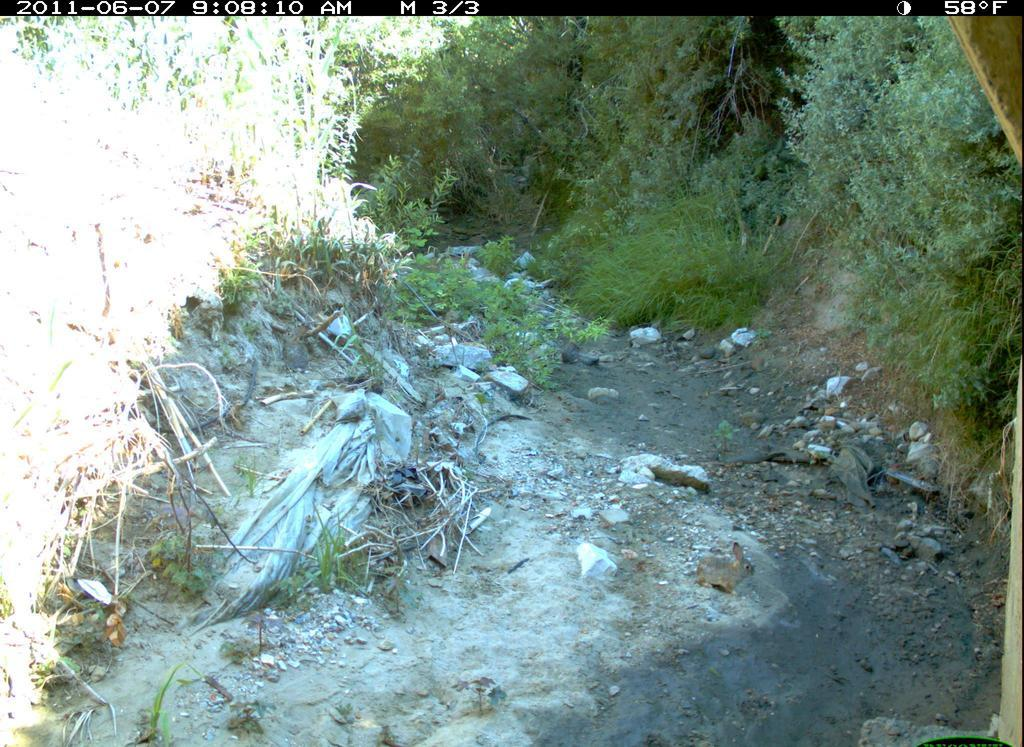rabbit: (693, 538, 761, 602)
